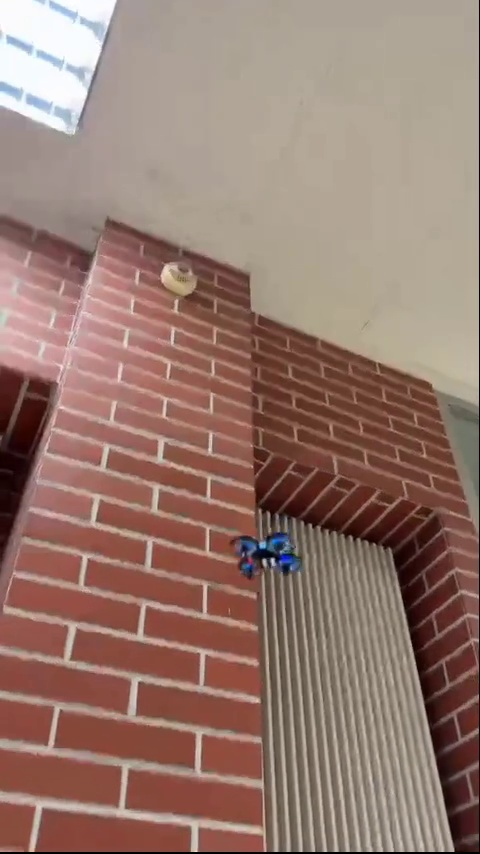drone: (227, 534, 302, 575)
